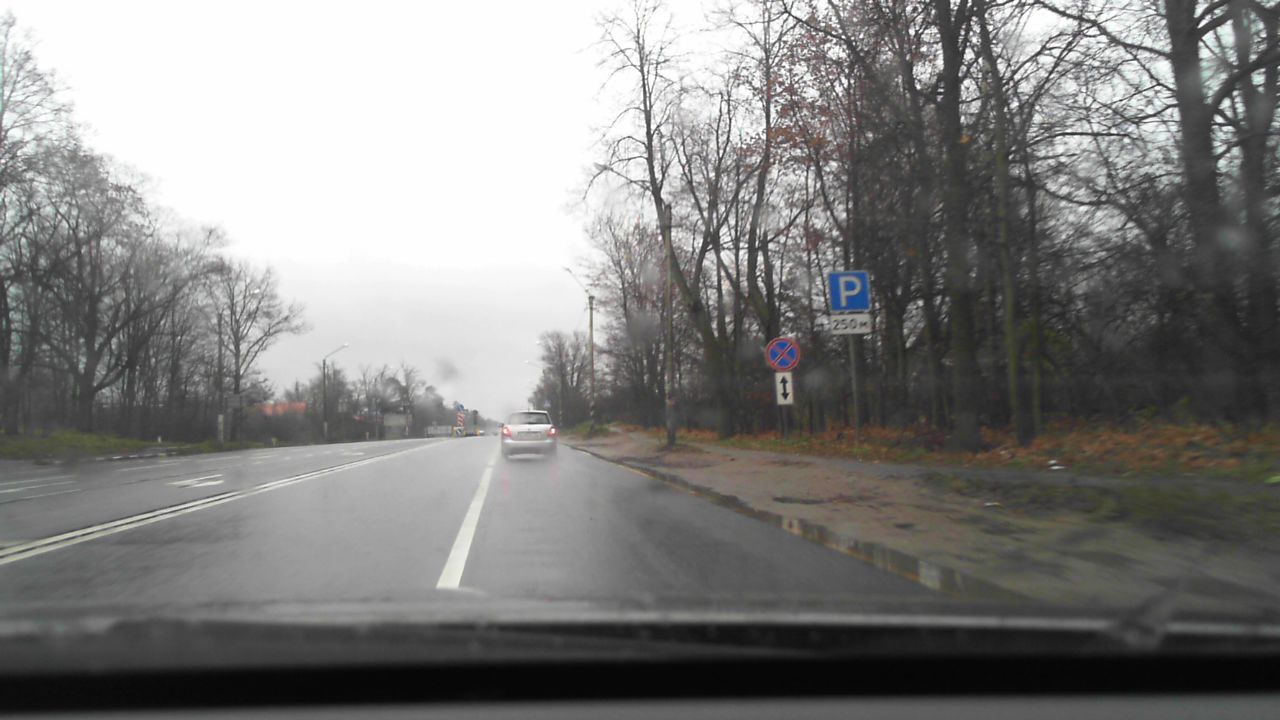No Parking: (764, 337, 800, 371)
